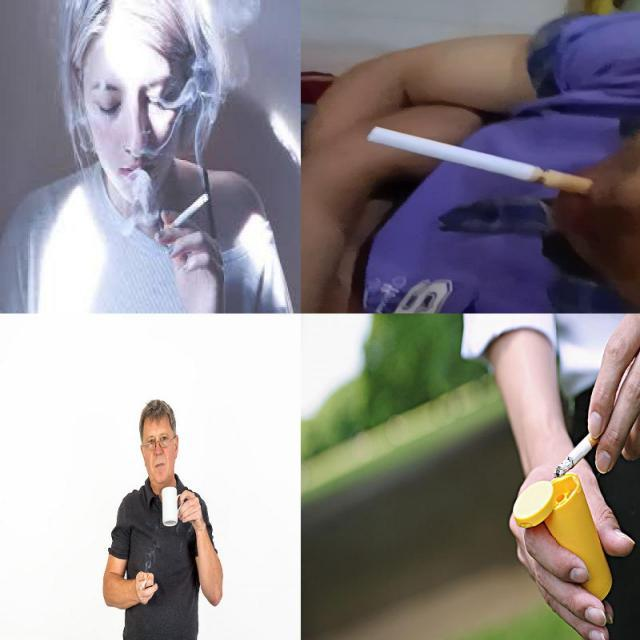cigarette: (366, 124, 598, 196), (550, 424, 603, 481), (162, 193, 210, 234), (140, 572, 150, 592)
